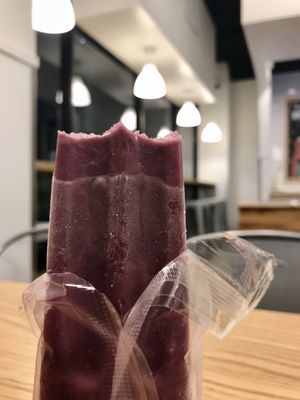soup: (23, 123, 188, 397), (21, 272, 124, 400)
